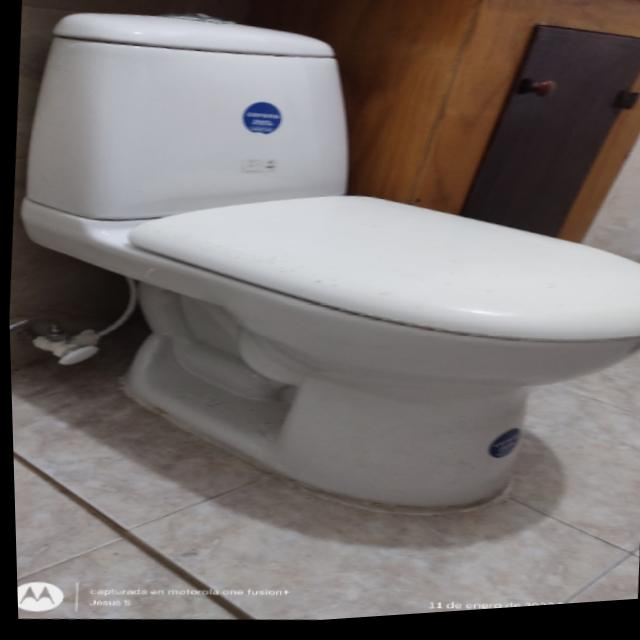toilet: (0, 0, 640, 553)
